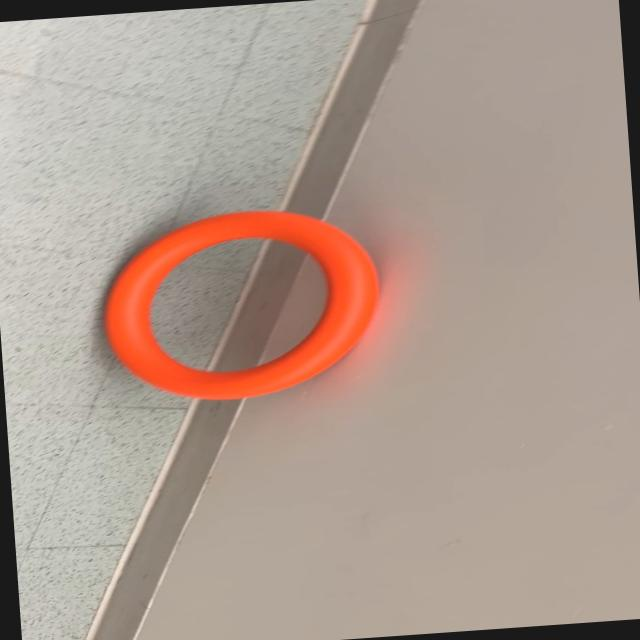note: (94, 200, 388, 409)
